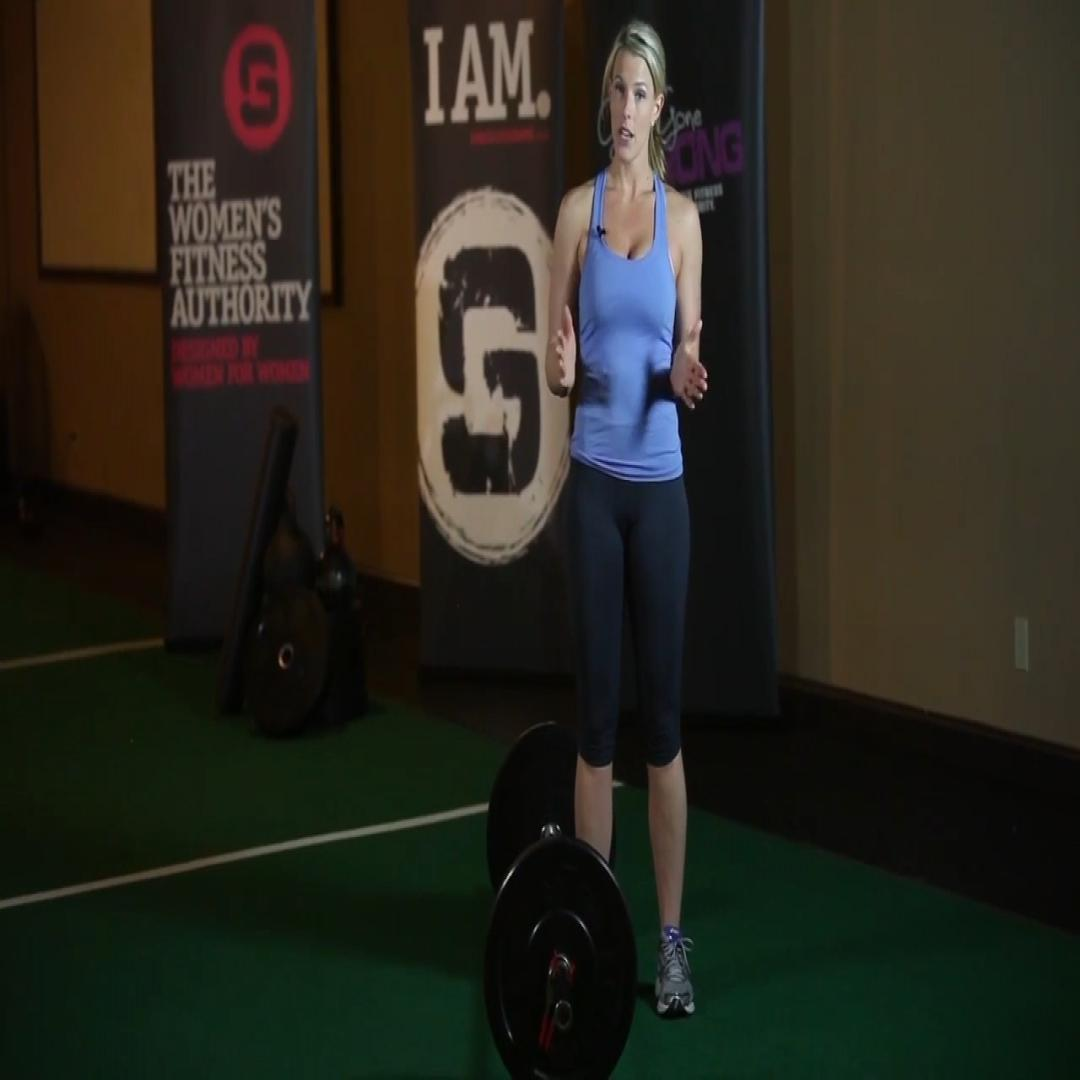Bar: (554, 997, 574, 1034)
Barbell: (481, 834, 640, 1078)
